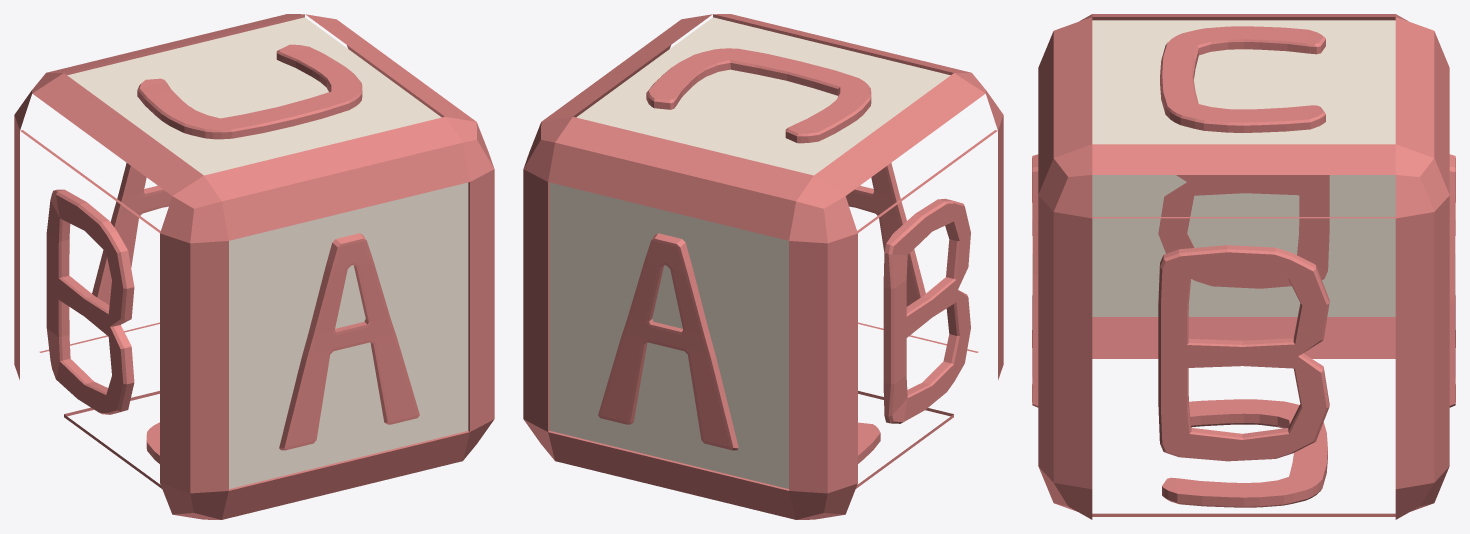
The model's file is toybox.glb.
The picture shows the model from 3 angles, left to right: view 1: azimuth 30°, elevation 25°; view 2: azimuth 150°, elevation 25°; view 3: azimuth 270°, elevation 25°; orthographic projection. The views are drawn at different scales.
Parts seen in each view (by area): view 1: block, letterB, letterA, letterC.001, letterA.001; view 2: block, letterB, letterA.001, letterC.001, letterA, letterC; view 3: block, letterB.001, letterC.001, letterC, letterB, letterA, letterA.001.
Boxes of the visible parts, bbox=[...] form: block: bbox=[14, 14, 494, 519]; letterB: bbox=[46, 189, 134, 414]; letterA: bbox=[279, 233, 419, 450]; letterC.001: bbox=[137, 44, 362, 139]; letterA.001: bbox=[92, 163, 172, 304]; block: bbox=[523, 14, 1003, 519]; letterB: bbox=[883, 198, 970, 423]; letterA.001: bbox=[598, 233, 738, 450]; letterC.001: bbox=[646, 48, 871, 143]; letterA: bbox=[845, 163, 925, 306]; letterC: bbox=[858, 422, 880, 463]; block: bbox=[1038, 14, 1449, 519]; letterB.001: bbox=[1158, 245, 1329, 461]; letterC.001: bbox=[1160, 26, 1325, 132]; letterC: bbox=[1162, 399, 1327, 507]; letterB: bbox=[1158, 175, 1329, 288]; letterA: bbox=[1032, 154, 1038, 407]; letterA.001: bbox=[1449, 154, 1455, 407].
Size of the model in its own units: 2.06 by 2.07 by 2.06.
